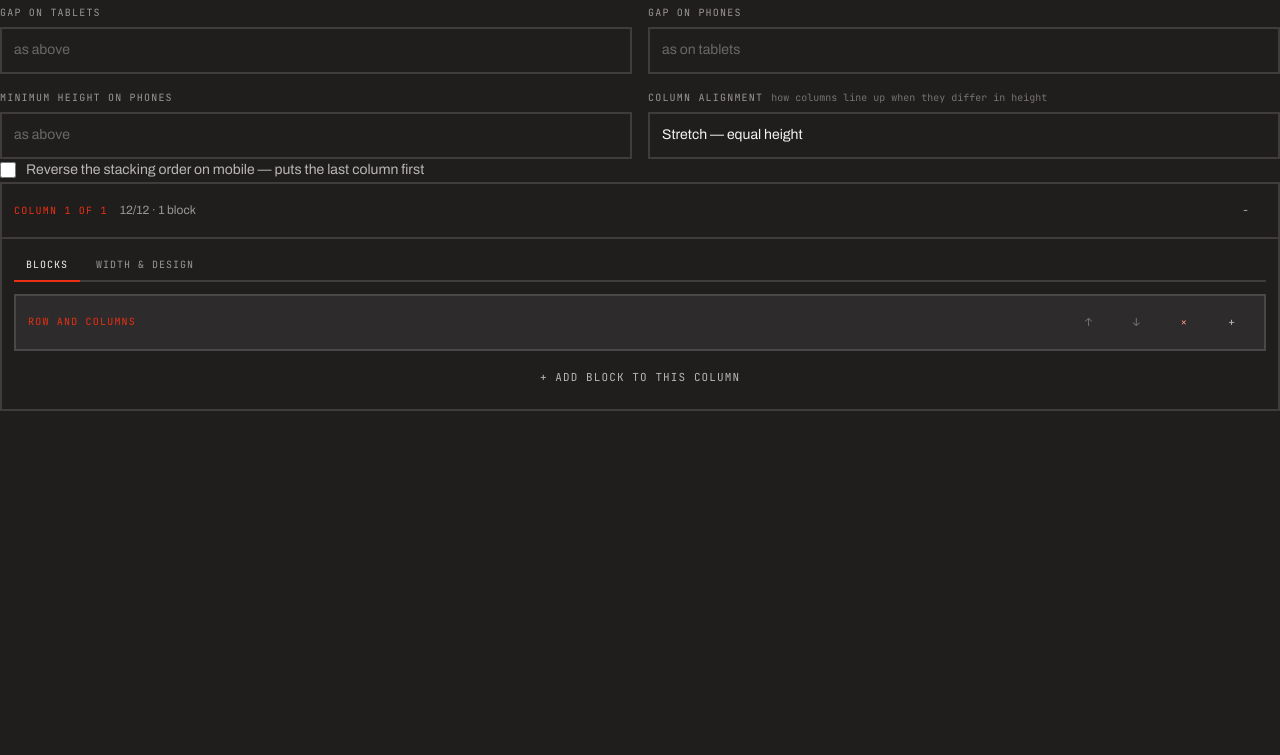
the block picker inside a column › still offers one at the level below
Click the button "Row and columns". click: click(82, 322)
box: [28, 314, 1061, 331]
(page scrolled)
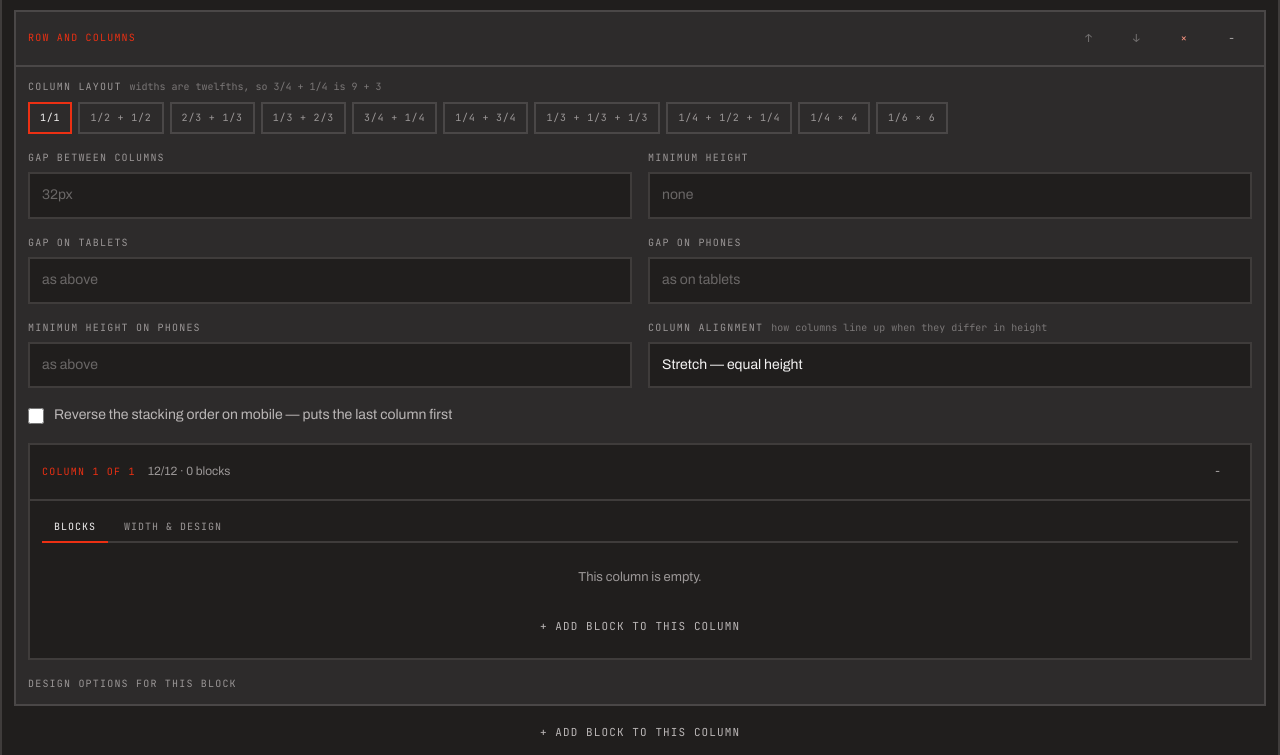
Click the button "+ Add block to this column" below "This column is empty.". click: click(640, 627)
box: [42, 608, 1238, 646]
(page scrolled)
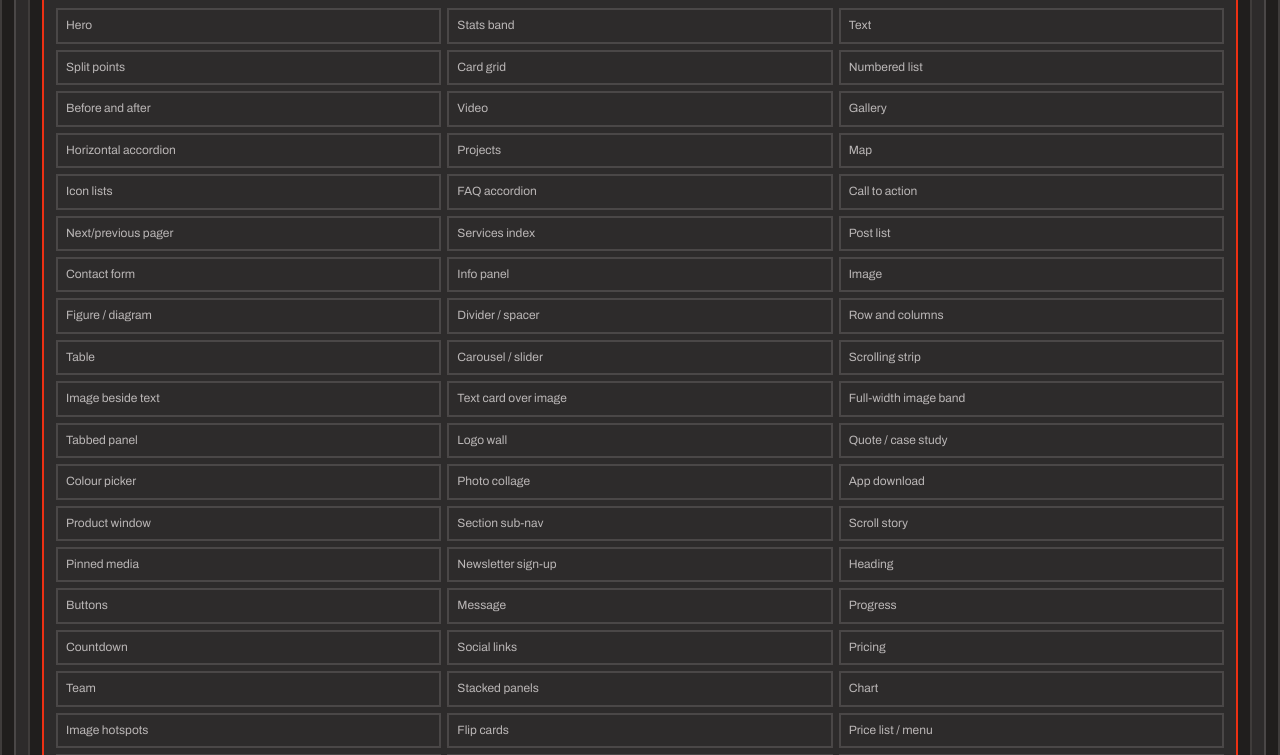
Expected: the button "Row and columns" is shown, [839, 298, 1224, 334]
